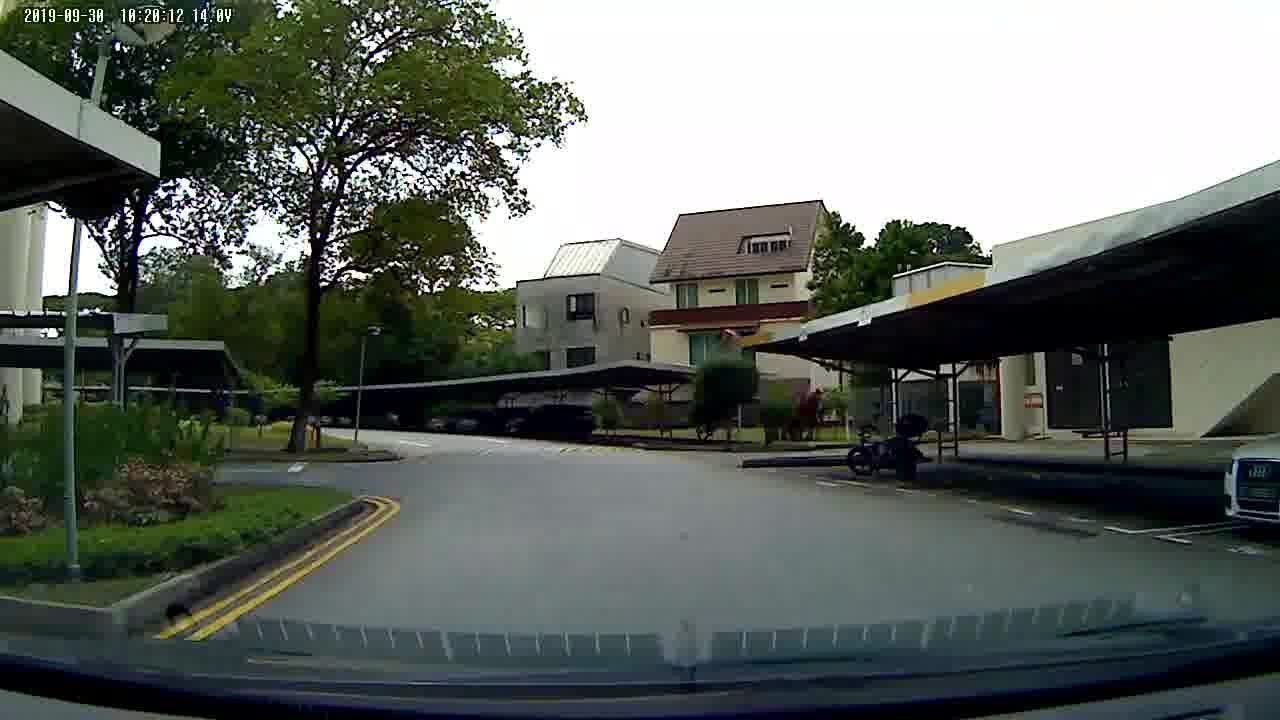car: (1209, 422, 1280, 543)
